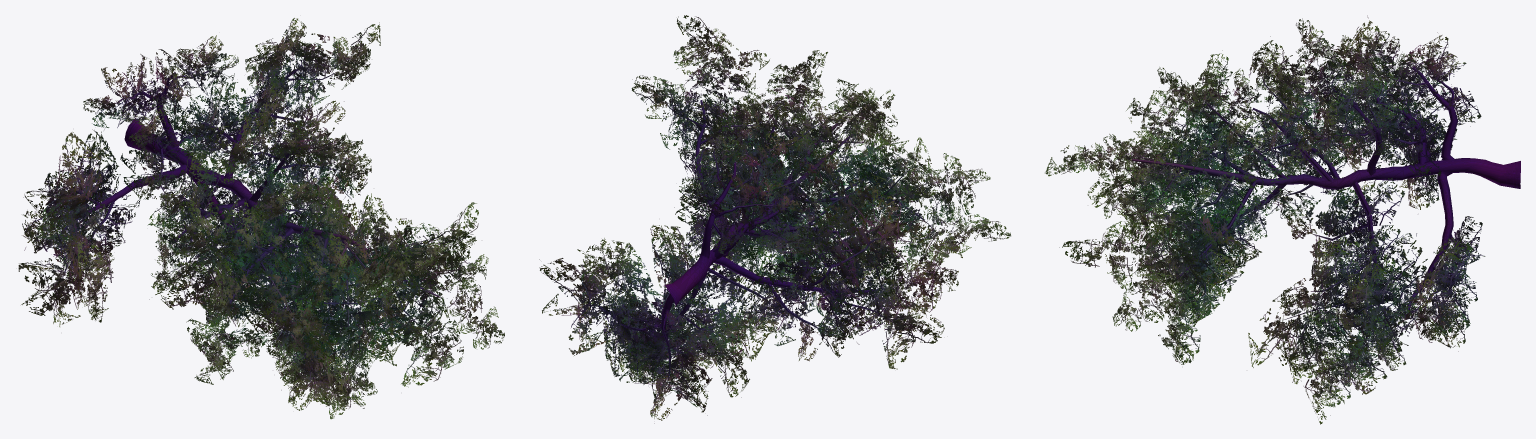
File: oak_large_oak_tree_002_lod1.glb
3 views of the same model, side by side, from view 1: azimuth 30°, elevation 25°; view 2: azimuth 150°, elevation 25°; view 3: azimuth 270°, elevation 25° (orthographic). The views are drawn at different scales.
Parts seen in each view (by area): view 1: Large_oak_tree_002_LOD1; view 2: Large_oak_tree_002_LOD1; view 3: Large_oak_tree_002_LOD1.
Boxes of the visible parts, bbox=[...] form: Large_oak_tree_002_LOD1: bbox=[18, 18, 504, 419]; Large_oak_tree_002_LOD1: bbox=[539, 15, 1010, 423]; Large_oak_tree_002_LOD1: bbox=[1045, 15, 1520, 424].
Bounding box in the file's own units: 24.5 × 22.64 × 26.99.
2 materials, 2 textured.
